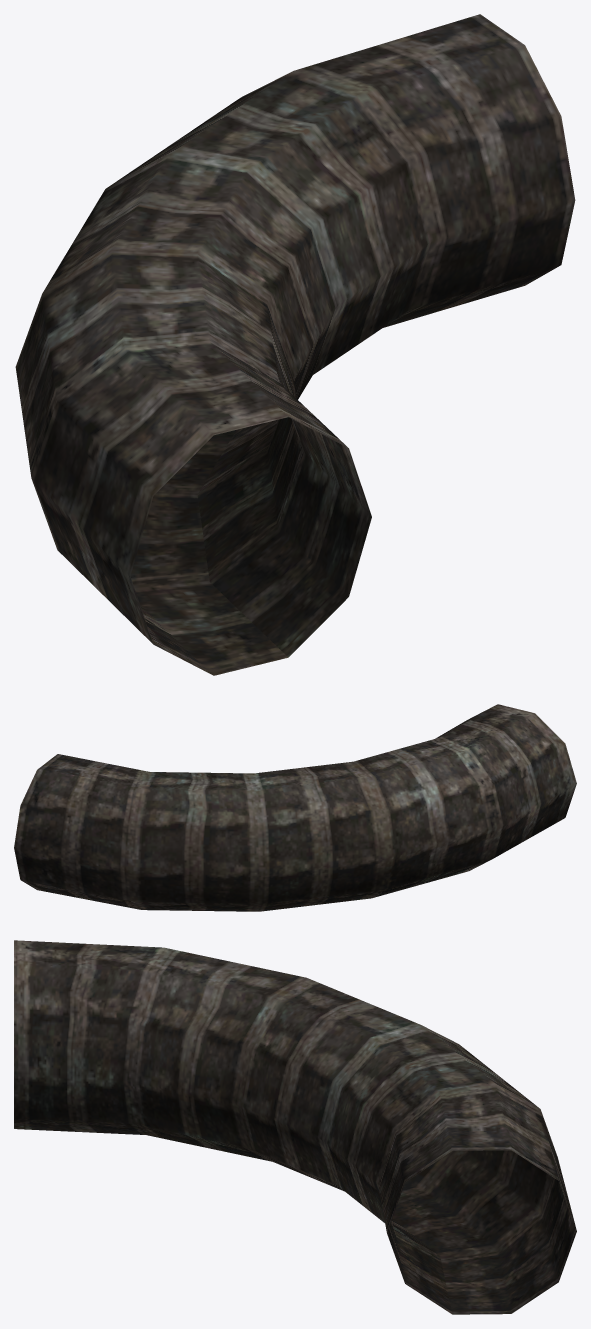
File: leech_cable_90_right_short.dae
The picture shows the model from 3 angles, top to bottom: view 1: azimuth 30°, elevation 25°; view 2: azimuth 150°, elevation 25°; view 3: azimuth 270°, elevation 25°; orthographic projection. The views are drawn at different scales.
Parts seen in each view (by area): view 1: tentacle_leech_cable_90_right_short; view 2: tentacle_leech_cable_90_right_short; view 3: tentacle_leech_cable_90_right_short.
Boxes of the visible parts, <box> form: tentacle_leech_cable_90_right_short: <box>15,14,575,675</box>; tentacle_leech_cable_90_right_short: <box>14,704,576,911</box>; tentacle_leech_cable_90_right_short: <box>14,940,576,1314</box>.
Bounding box in the file's own units: 0.604 × 0.1932 × 0.6015.
